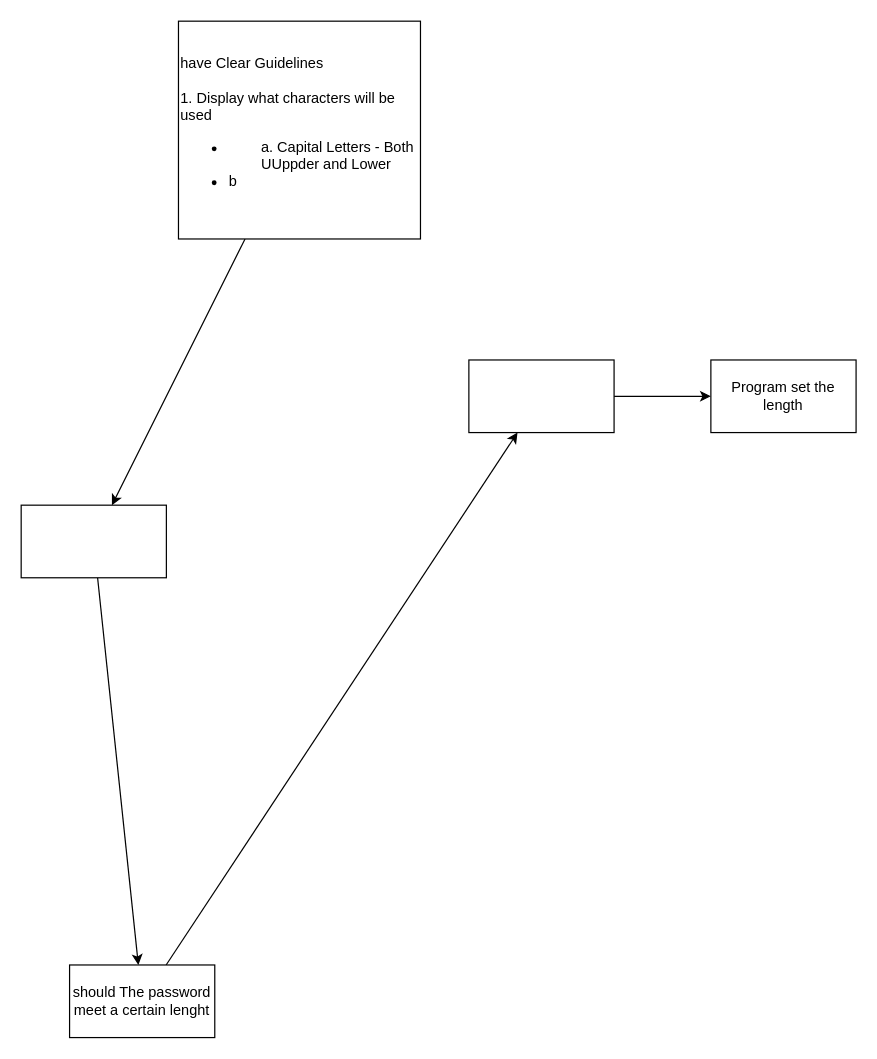
Image size: 877x1059. Some labels were removed from this diagram. Here are the shapes that lost their labels. From the top down, the centre of each, then its label:
point (541, 396): YES
point (93, 541): ask user what the password should be
